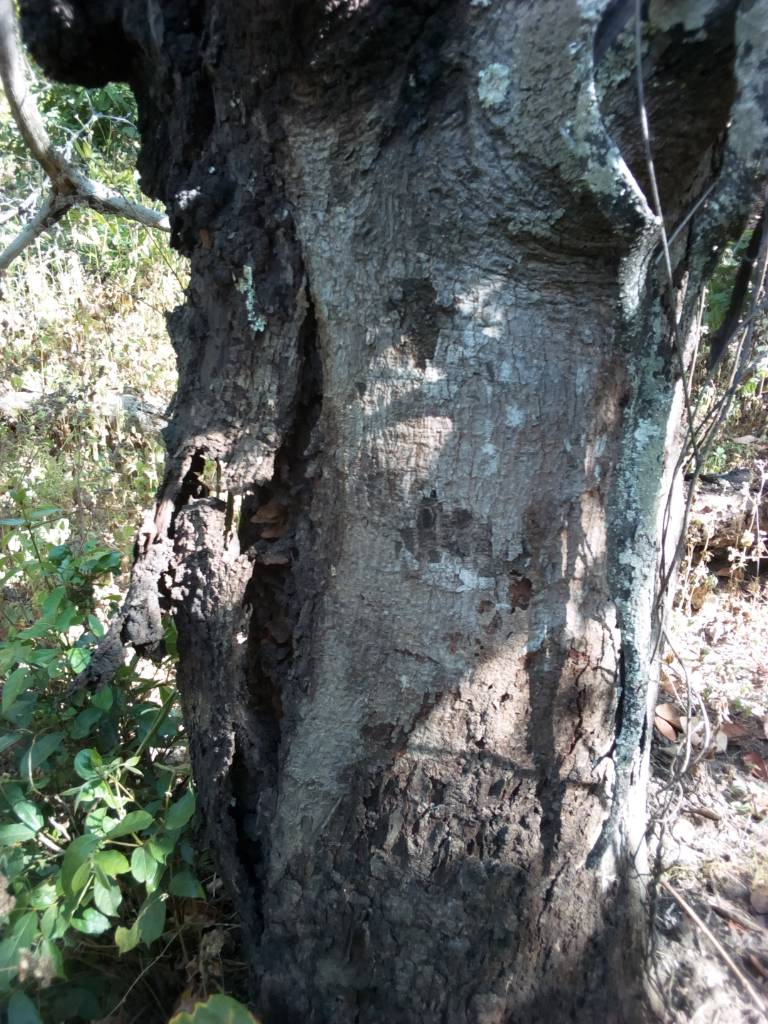Termites: (165, 213, 305, 953), (344, 675, 619, 1013)
